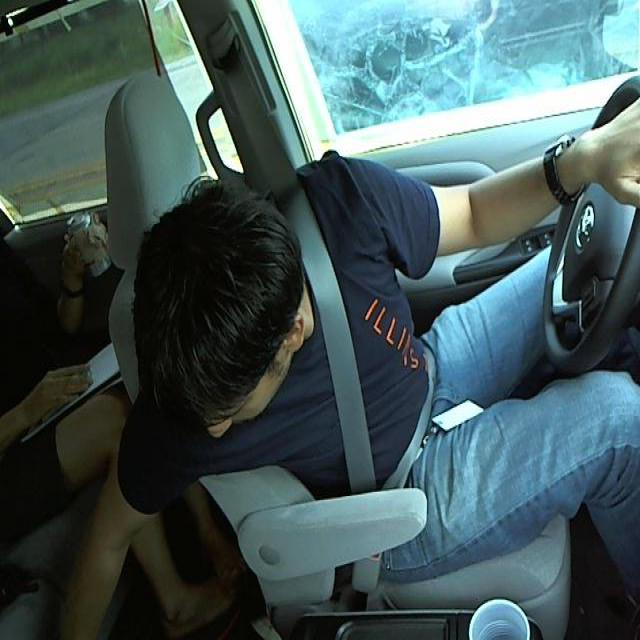seatbelt: (301, 243, 439, 497)
